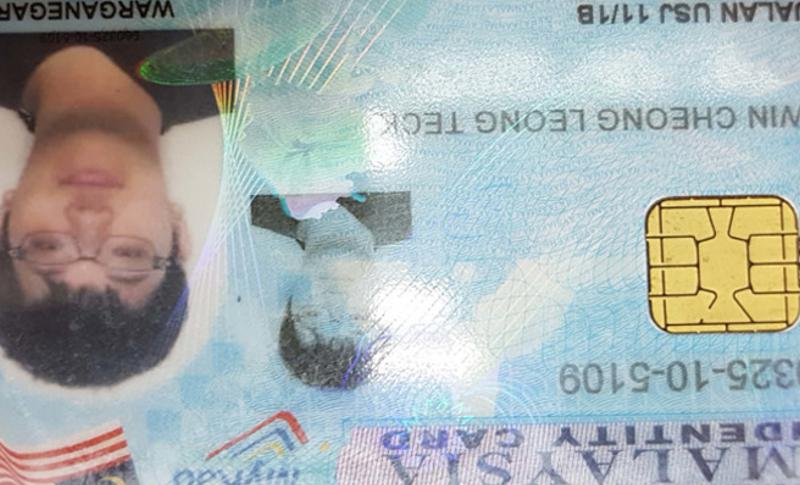hologramB: (232, 1, 379, 192)
